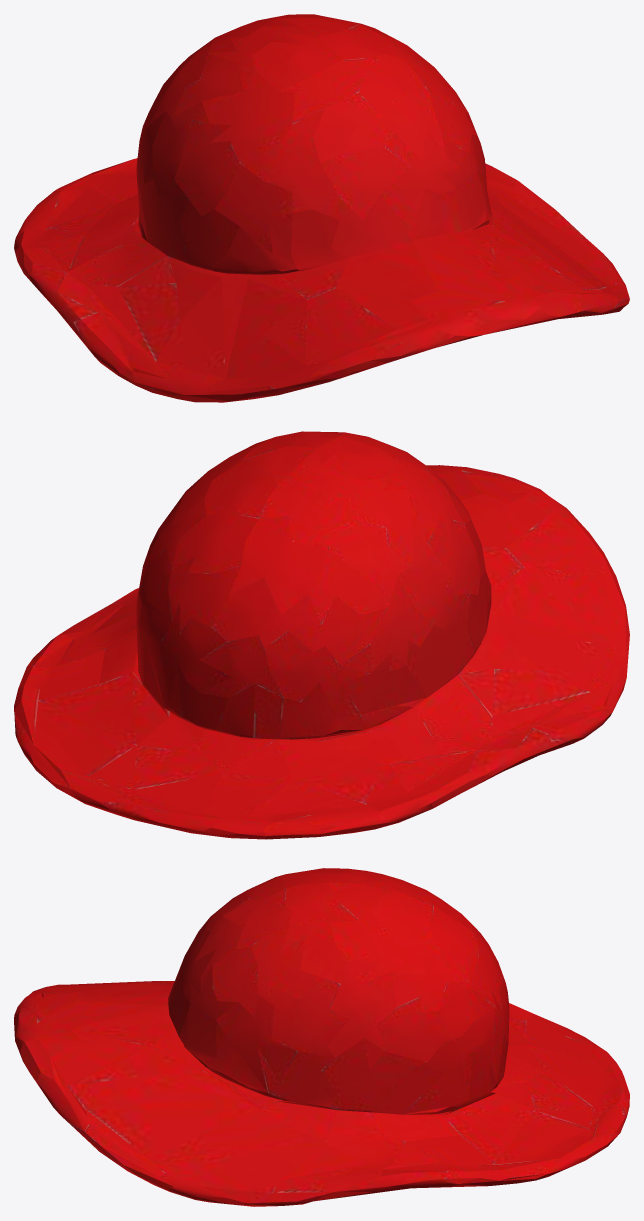
The model's file is hat.6199c545.glb.
3 renders of one model, top to bottom at view 1: azimuth 30°, elevation 25°; view 2: azimuth 150°, elevation 25°; view 3: azimuth 270°, elevation 25°, orthographic. The views are drawn at different scales.
Parts seen in each view (by area): view 1: output_unwrapped; view 2: output_unwrapped; view 3: output_unwrapped.
Part boxes in pixels (x1,y1,x2,y2): output_unwrapped: (14,14,629,402); output_unwrapped: (14,431,629,839); output_unwrapped: (14,868,629,1206).
Size of the model in its own units: 1.53 by 0.7651 by 1.9.
1 material, 1 textured.
